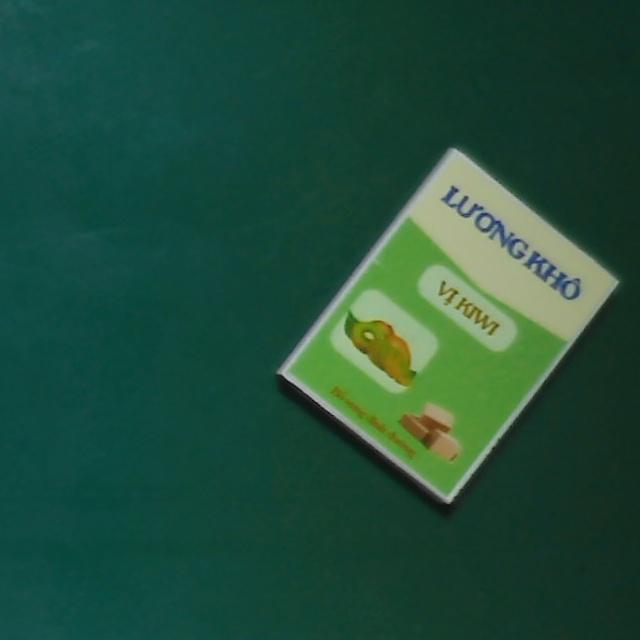kiwi: (276, 145, 624, 506)
